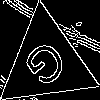G: (21, 37, 76, 98)
